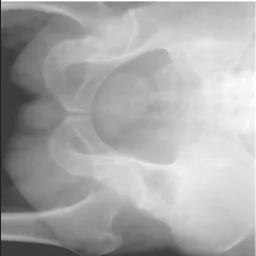cancer: (44, 2, 162, 77)
